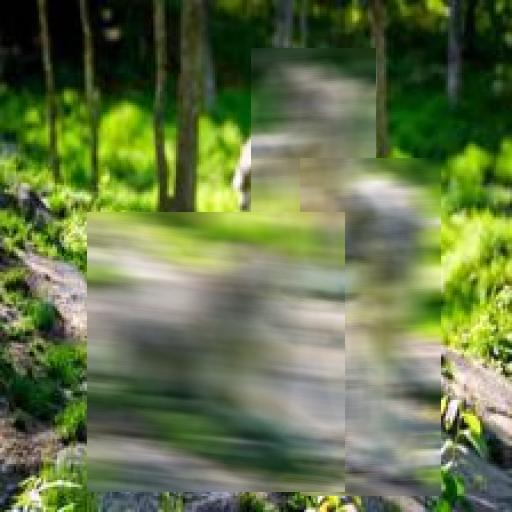wolf: (87, 212, 345, 492), (300, 158, 441, 496), (251, 48, 376, 215)
